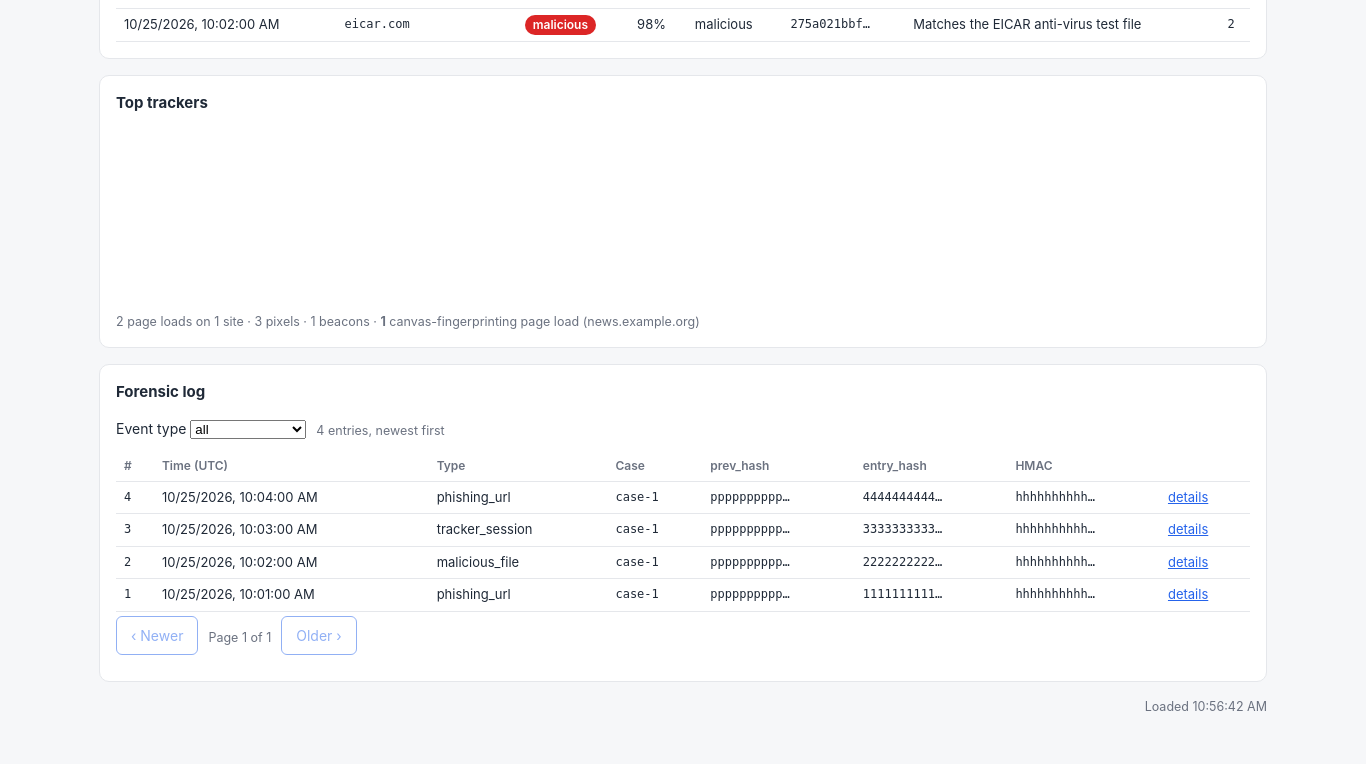
Test: App › log table: filter by type and expand details
(page scrolled)
Select "tracker_session" in the dropdown at (248,429), box [190,420,306,439]
(page scrolled)
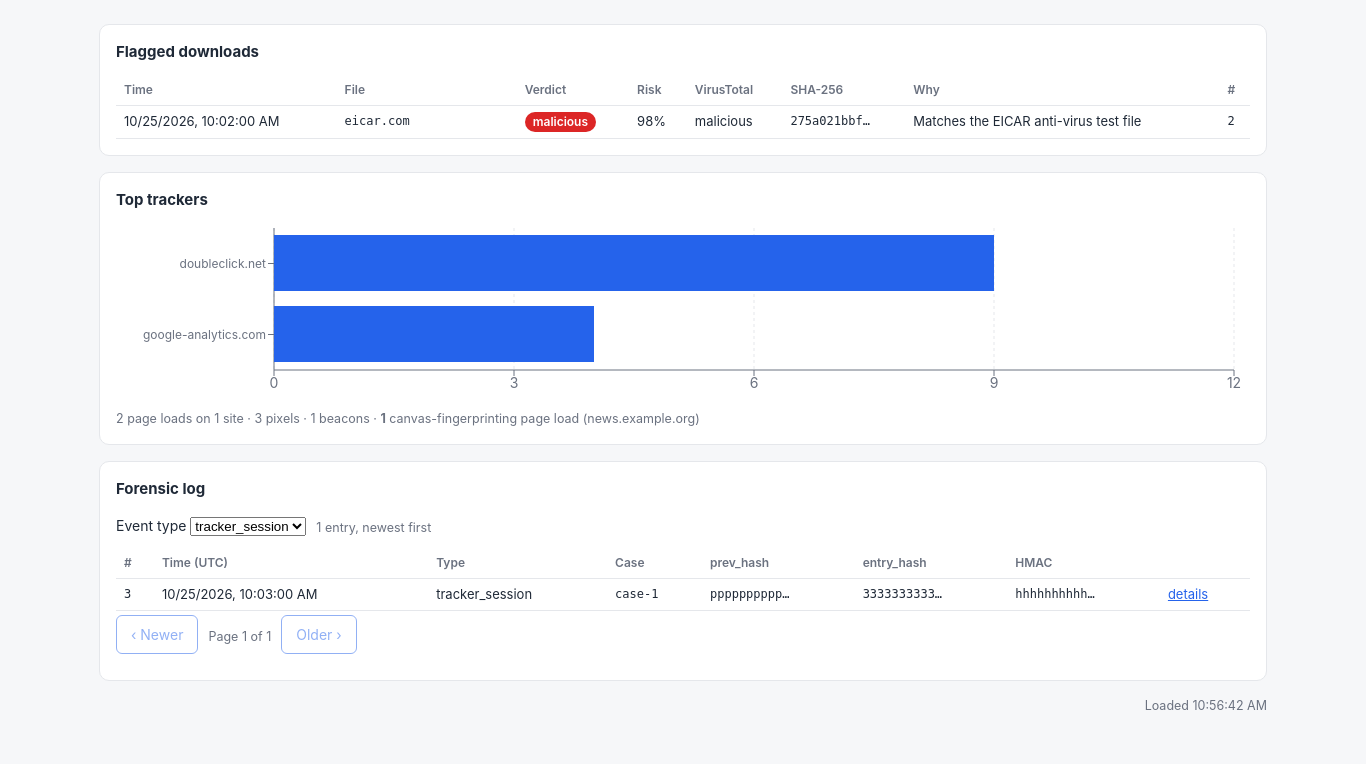
Result: the text "1 entry, newest first" is shown at [316,519,431,538]
Click the button "details".
click(1188, 594)  # box [1168,584,1208,604]
(page scrolled)
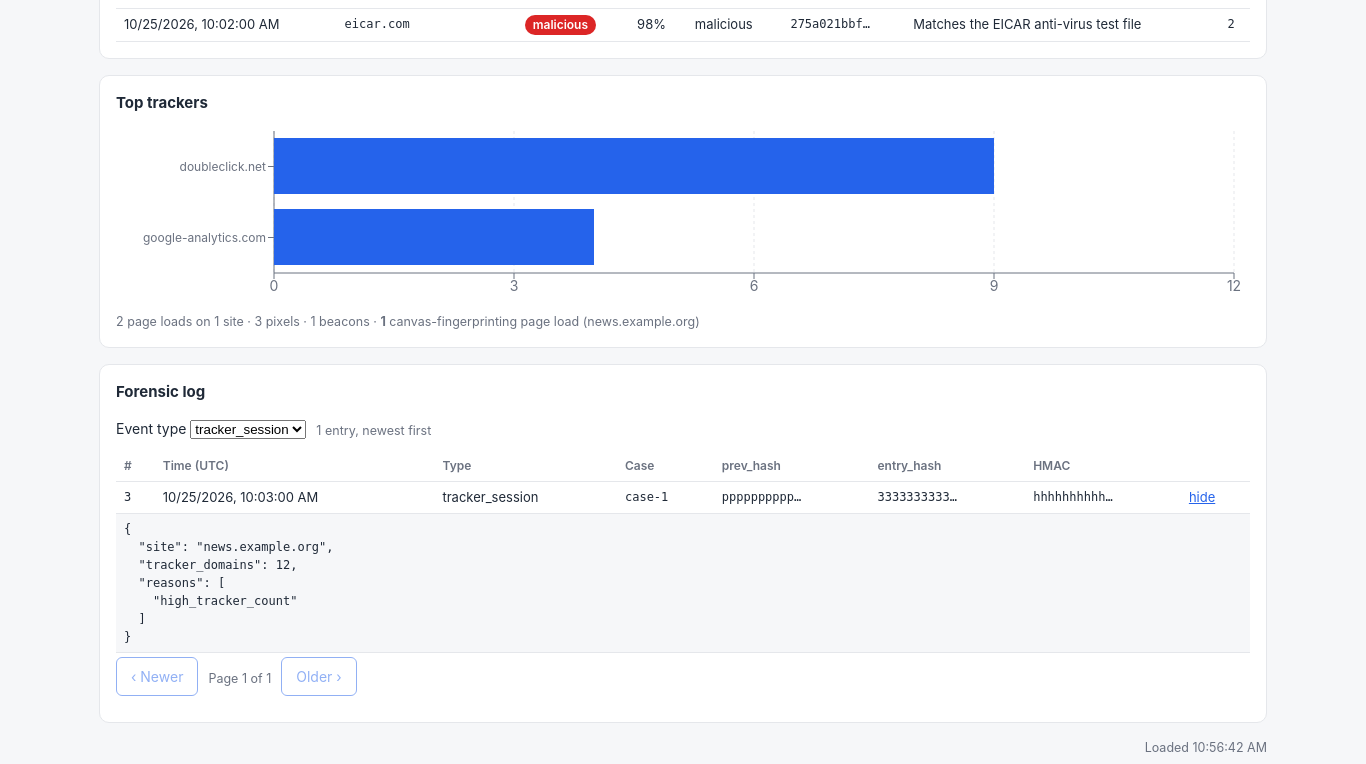
Result: the text "\"site\": \"news.example.org\"" is shown at [124,522,334,644]
